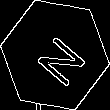N_NW: (24, 24, 86, 86)
